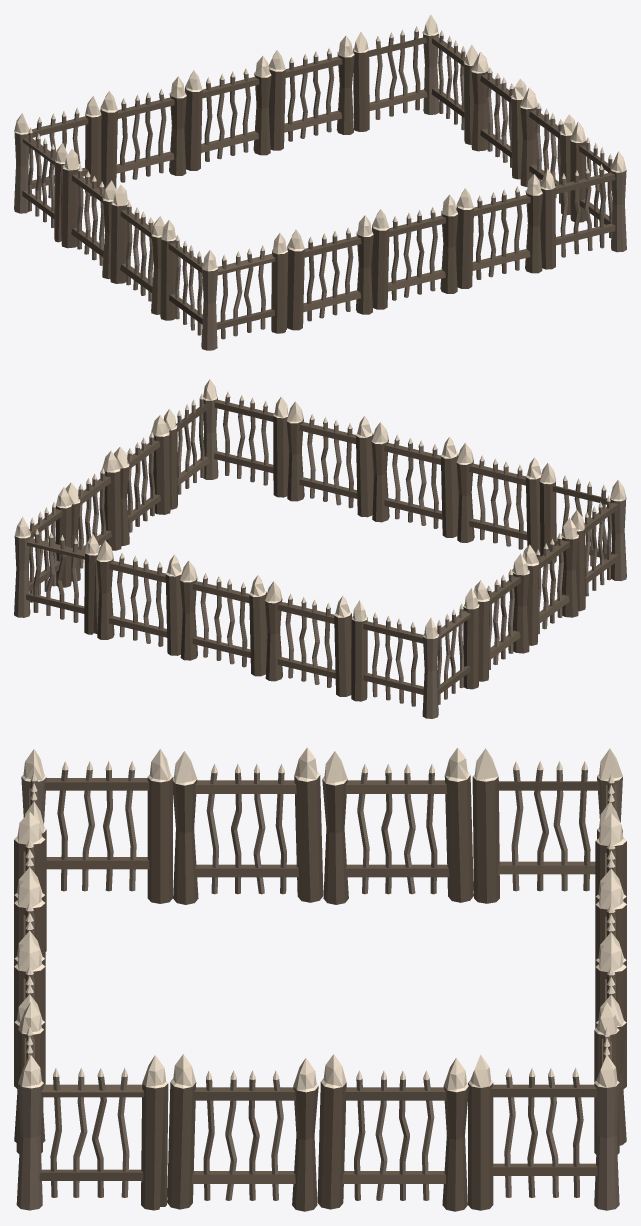
Rendered from FENSE_FULL.fbx.
3 views of the same model, one above another, from view 1: azimuth 30°, elevation 25°; view 2: azimuth 150°, elevation 25°; view 3: azimuth 270°, elevation 25° (orthographic). The views are drawn at different scales.
Parts seen in each view (by area): view 1: FENSE_CORNER_01, FENSE_CORNER_05, FENSE_CORNER_04, FENSE_CORNER_02, FENSE_LINE_06, FENSE_LINE_08, FENSE_LINE_04, FENSE_LINE_07, FENSE_LINE_05, FENSE_LINE_03, FENSE_LINE_01, FENSE_LINE_10 (+2 smaller); view 2: FENSE_CORNER_02, FENSE_CORNER_04, FENSE_CORNER_05, FENSE_CORNER_01, FENSE_LINE_03, FENSE_LINE_08, FENSE_LINE_07, FENSE_LINE_04, FENSE_LINE_05, FENSE_LINE_06, FENSE_LINE_02, FENSE_LINE_01 (+2 smaller); view 3: FENSE_CORNER_04, FENSE_CORNER_05, FENSE_LINE_02, FENSE_LINE_01, FENSE_LINE_09, FENSE_LINE_10, FENSE_CORNER_01, FENSE_CORNER_02, FENSE_LINE_05, FENSE_LINE_08, FENSE_LINE_06, FENSE_LINE_07 (+2 smaller).
Boxes of the visible parts, left/top/right/bottom form: FENSE_CORNER_01: left=160, top=220, right=287, bottom=350; FENSE_CORNER_05: left=353, top=14, right=477, bottom=144; FENSE_CORNER_04: left=540, top=121, right=626, bottom=269; FENSE_CORNER_02: left=14, top=96, right=101, bottom=242; FENSE_LINE_06: left=287, top=215, right=373, bottom=330; FENSE_LINE_08: left=455, top=174, right=542, bottom=288; FENSE_LINE_04: left=184, top=56, right=271, bottom=170; FENSE_LINE_07: left=371, top=194, right=458, bottom=309; FENSE_LINE_05: left=268, top=35, right=354, bottom=150; FENSE_LINE_03: left=100, top=76, right=186, bottom=188; FENSE_LINE_01: left=110, top=184, right=164, bottom=314; FENSE_LINE_10: left=471, top=52, right=526, bottom=179; FENSE_CORNER_02: left=351, top=588, right=479, bottom=718; FENSE_CORNER_04: left=163, top=379, right=289, bottom=509; FENSE_CORNER_05: left=14, top=487, right=99, bottom=634; FENSE_CORNER_01: left=539, top=463, right=626, bottom=611; FENSE_LINE_03: left=265, top=581, right=351, bottom=696; FENSE_LINE_08: left=286, top=401, right=374, bottom=517; FENSE_LINE_07: left=371, top=422, right=459, bottom=537; FENSE_LINE_04: left=180, top=560, right=267, bottom=676; FENSE_LINE_05: left=96, top=540, right=182, bottom=655; FENSE_LINE_06: left=456, top=443, right=541, bottom=553; FENSE_LINE_02: left=473, top=553, right=529, bottom=681; FENSE_LINE_01: left=522, top=517, right=578, bottom=645; FENSE_CORNER_04: left=16, top=1002, right=168, bottom=1210; FENSE_CORNER_05: left=468, top=1002, right=619, bottom=1210; FENSE_LINE_02: left=322, top=747, right=473, bottom=904; FENSE_LINE_01: left=172, top=747, right=323, bottom=904; FENSE_LINE_09: left=167, top=1054, right=318, bottom=1211; FENSE_LINE_10: left=317, top=1054, right=468, bottom=1211; FENSE_CORNER_01: left=21, top=749, right=172, bottom=951; FENSE_CORNER_02: left=472, top=748, right=622, bottom=903; FENSE_LINE_05: left=595, top=939, right=626, bottom=1145; FENSE_LINE_08: left=14, top=938, right=45, bottom=1142; FENSE_LINE_06: left=14, top=811, right=45, bottom=902; FENSE_LINE_07: left=14, top=875, right=45, bottom=966.
Size of the model in its own units: 999 by 220 by 808.
